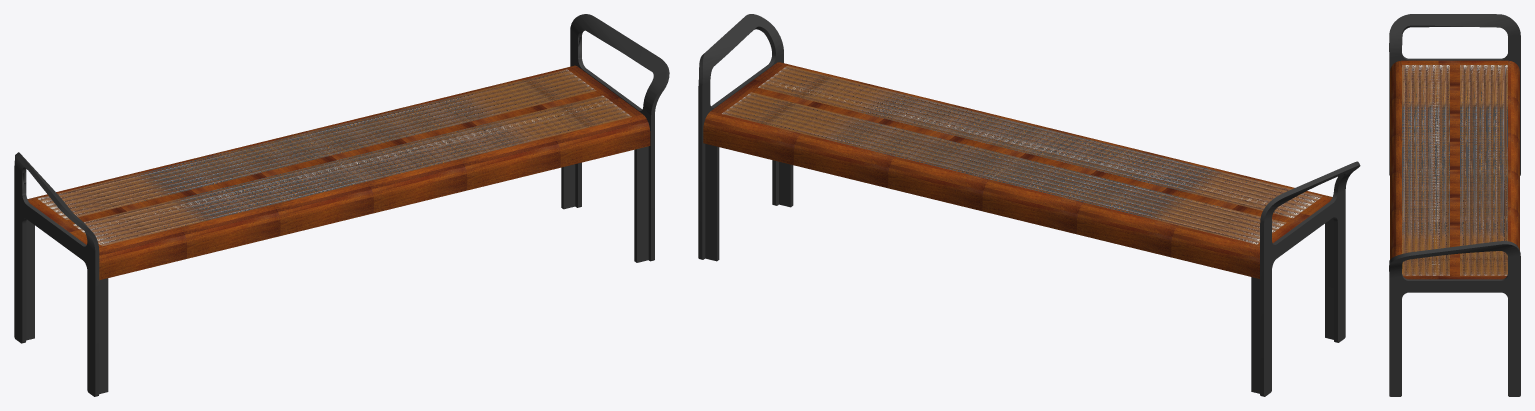
3 renders of one model, left to right at view 1: azimuth 30°, elevation 25°; view 2: azimuth 150°, elevation 25°; view 3: azimuth 270°, elevation 25°, orthographic. The views are drawn at different scales.
Visible parts, largest first — view 1: mesh3_mesh3-geometry, mesh1_mesh1-geometry, mesh2_mesh2-geometry; view 2: mesh3_mesh3-geometry, mesh1_mesh1-geometry, mesh2_mesh2-geometry; view 3: mesh3_mesh3-geometry, mesh2_mesh2-geometry, mesh1_mesh1-geometry.
Part boxes in pixels (x1=…): mesh3_mesh3-geometry: x1=27, y1=65, x2=650, y2=280; mesh1_mesh1-geometry: x1=14, y1=152, x2=108, y2=396; mesh2_mesh2-geometry: x1=561, y1=14, x2=669, y2=262; mesh3_mesh3-geometry: x1=703, y1=62, x2=1332, y2=278; mesh1_mesh1-geometry: x1=1251, y1=161, x2=1360, y2=396; mesh2_mesh2-geometry: x1=698, y1=14, x2=793, y2=261; mesh3_mesh3-geometry: x1=1390, y1=60, x2=1519, y2=279; mesh2_mesh2-geometry: x1=1389, y1=241, x2=1520, y2=396; mesh1_mesh1-geometry: x1=1389, y1=14, x2=1520, y2=175.
Bounding box in the file's own units: 0.9334 × 0.2864 × 0.2162.
